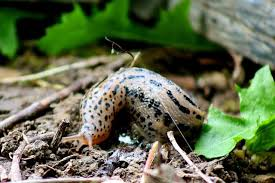slug: (66, 67, 199, 149)
